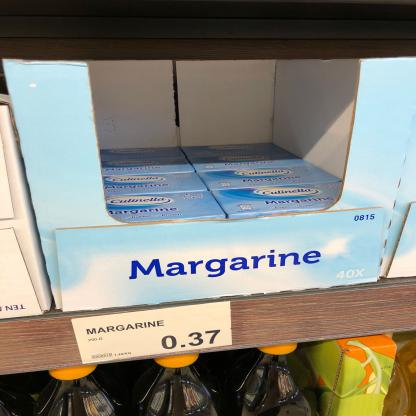prtg: (73, 302, 234, 364)
